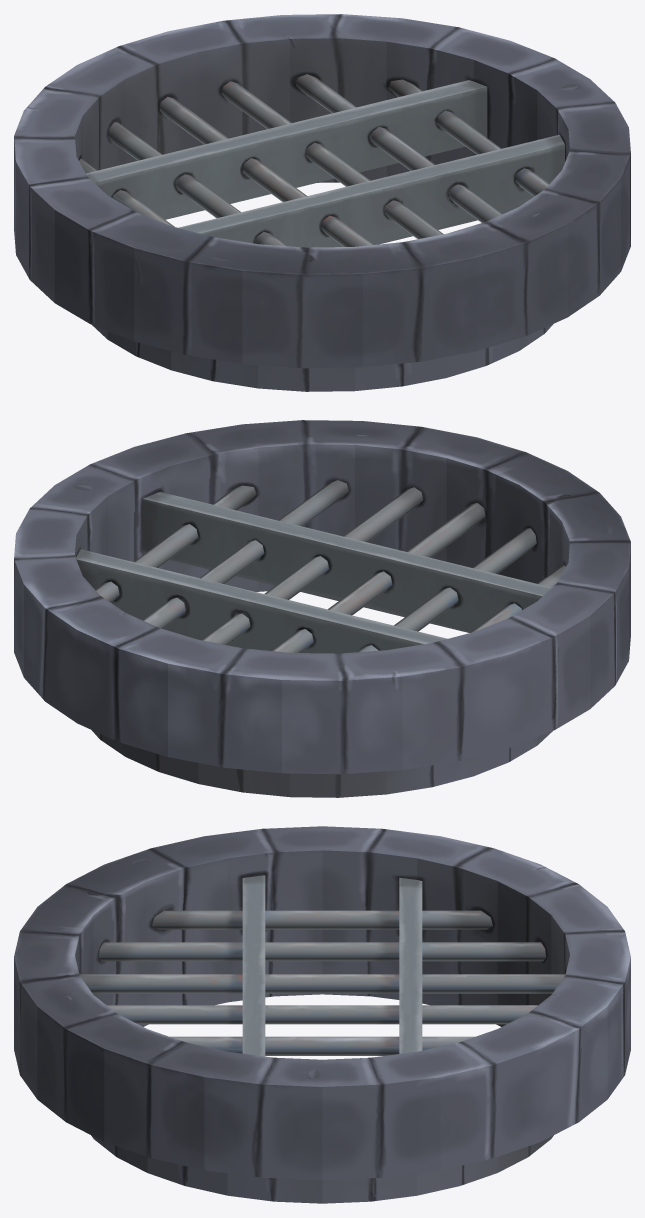
The model's file is alcantarilla.glb.
The picture shows the model from 3 angles, top to bottom: view 1: azimuth 30°, elevation 25°; view 2: azimuth 150°, elevation 25°; view 3: azimuth 270°, elevation 25°; orthographic projection.
Parts seen in each view (by area): view 1: Cylinder; view 2: Cylinder; view 3: Cylinder.
Part boxes in pixels (x1,y1,x2,y2): Cylinder: (14,14,630,391); Cylinder: (14,420,630,797); Cylinder: (14,826,630,1203).
Size of the model in its own units: 2.45 by 0.6322 by 2.45.
1 material, 1 textured.
